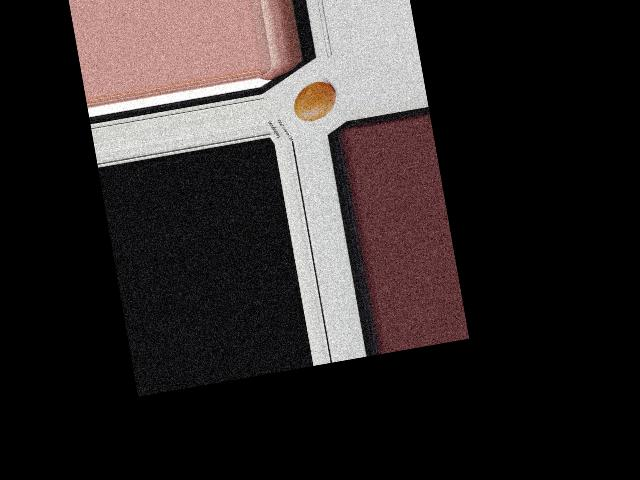egg: (290, 78, 339, 123)
